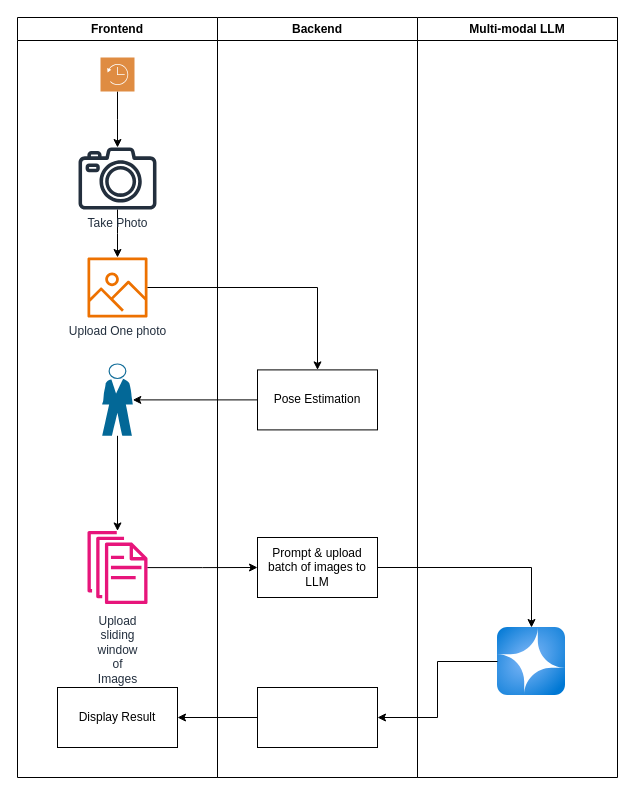
Some shapes in this 635 by 795 pixel diagram are drawn without their labels. The centre of each missing label's shape, as x and y in pixels:
LLM generates response Text: point 531,661
Pose Estimated Image: point 117,399
Return Response: point 317,717
SetInterval: point 117,74
